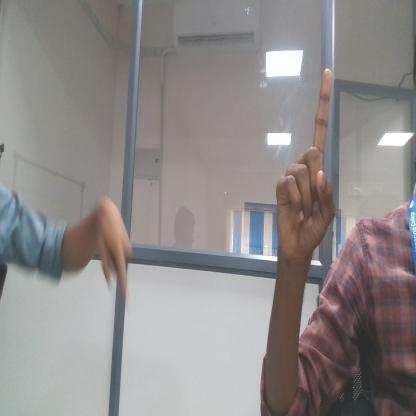Up: (272, 64, 340, 272)
